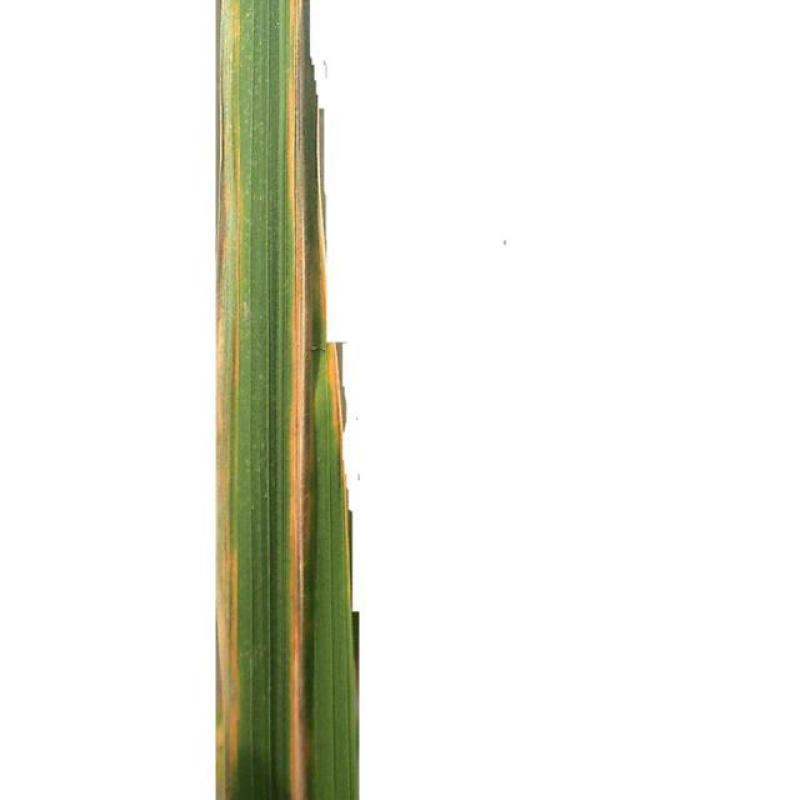Bacterial_Leaf_Blight: (234, 75, 375, 746)
